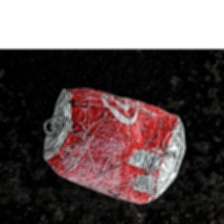can: (34, 80, 188, 210)
